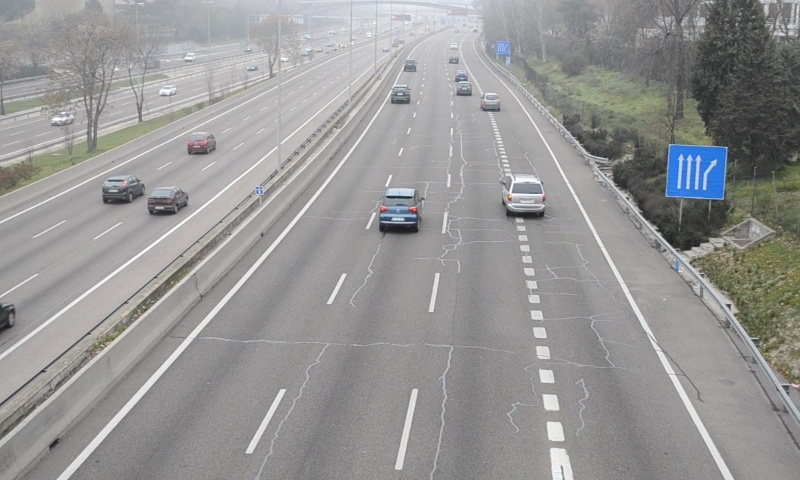car: (377, 188, 422, 228), (502, 174, 545, 214), (480, 91, 500, 112), (389, 84, 410, 103), (455, 80, 473, 96)
